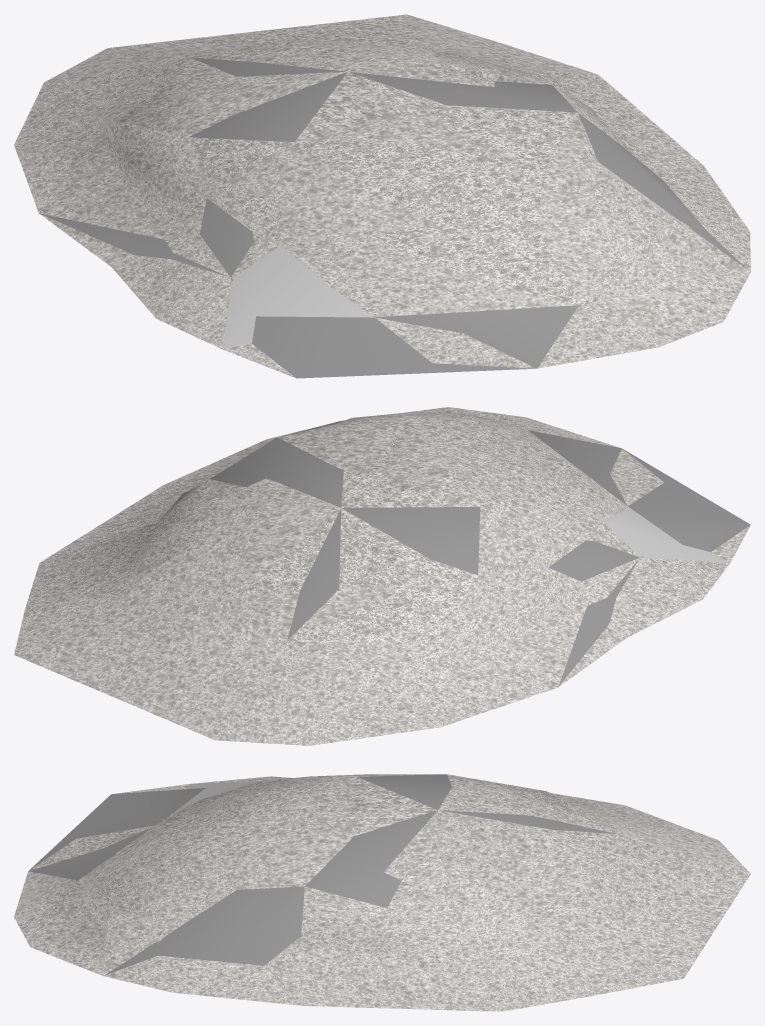
File: ut_clean_debris.DAE
3 renders of one model, top to bottom at view 1: azimuth 30°, elevation 25°; view 2: azimuth 150°, elevation 25°; view 3: azimuth 270°, elevation 25°, orthographic. The views are drawn at different scales.
Visible parts, largest first — view 1: ut_clean_debris200, ut_clean_debris50, ut_clean_debris15, Colmesh-1; view 2: ut_clean_debris50, ut_clean_debris200, ut_clean_debris15, Colmesh-1; view 3: ut_clean_debris50, ut_clean_debris200, ut_clean_debris15, Colmesh-1.
Part boxes in pixels (<box>): ut_clean_debris200: <box>14,14,750,368</box>; ut_clean_debris50: <box>39,14,750,377</box>; ut_clean_debris15: <box>40,57,748,378</box>; Colmesh-1: <box>222,246,374,349</box>; ut_clean_debris50: <box>14,407,750,745</box>; ut_clean_debris200: <box>14,407,729,745</box>; ut_clean_debris15: <box>210,421,750,686</box>; Colmesh-1: <box>603,506,729,562</box>; ut_clean_debris50: <box>30,774,750,1011</box>; ut_clean_debris200: <box>14,774,718,1011</box>; ut_clean_debris15: <box>28,774,615,975</box>; Colmesh-1: <box>170,782,256,815</box>.
Bounding box in the file's own units: 629 × 832 × 105.
